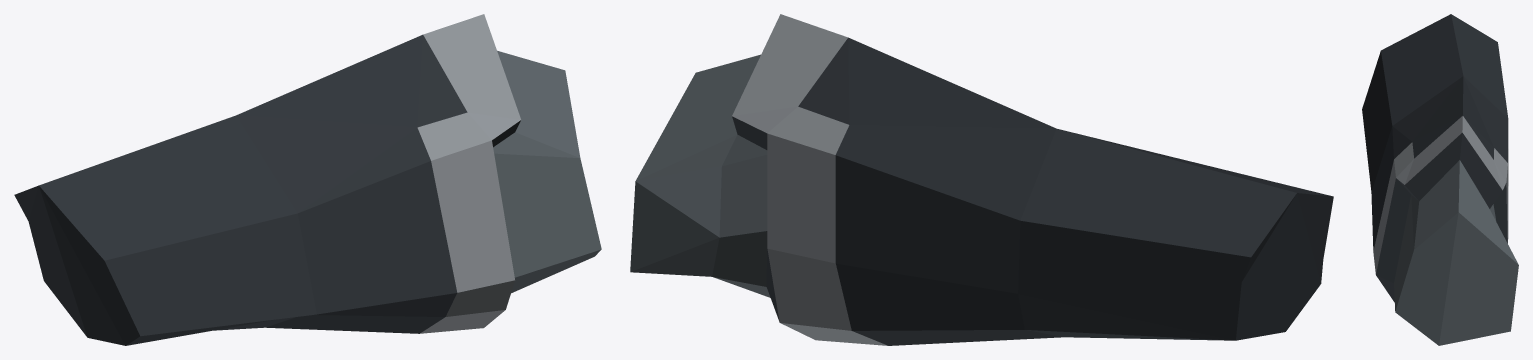
Rendered from Chr_ArmLowerRight_Female_05_Static.fbx.
3 views of the same model, side by side, from view 1: azimuth 30°, elevation 25°; view 2: azimuth 150°, elevation 25°; view 3: azimuth 270°, elevation 25° (orthographic). The views are drawn at different scales.
Visible parts, largest first — view 1: Chr_ArmLowerRight_Female_05_Static; view 2: Chr_ArmLowerRight_Female_05_Static; view 3: Chr_ArmLowerRight_Female_05_Static.
Part boxes in pixels (x1=…): Chr_ArmLowerRight_Female_05_Static: x1=14, y1=14, x2=601, y2=345; Chr_ArmLowerRight_Female_05_Static: x1=630, y1=14, x2=1333, y2=345; Chr_ArmLowerRight_Female_05_Static: x1=1362, y1=14, x2=1518, y2=345.
Bounding box in the file's own units: 0.2992 × 0.1543 × 0.103.
